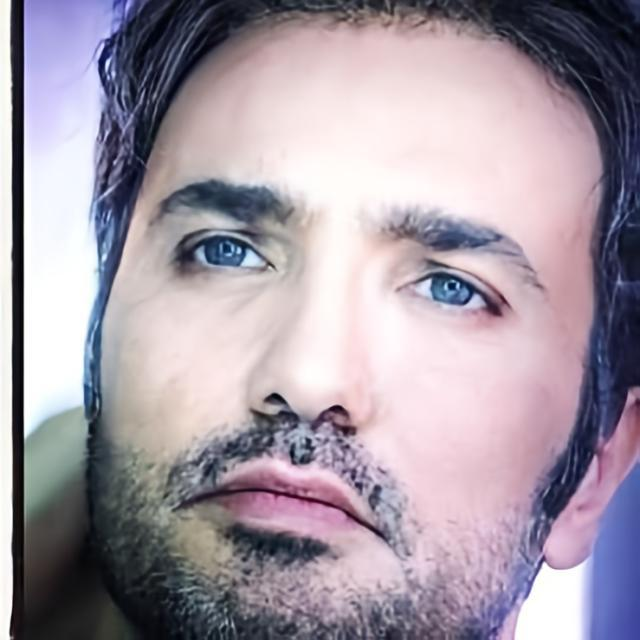neutral: (95, 5, 604, 640)
